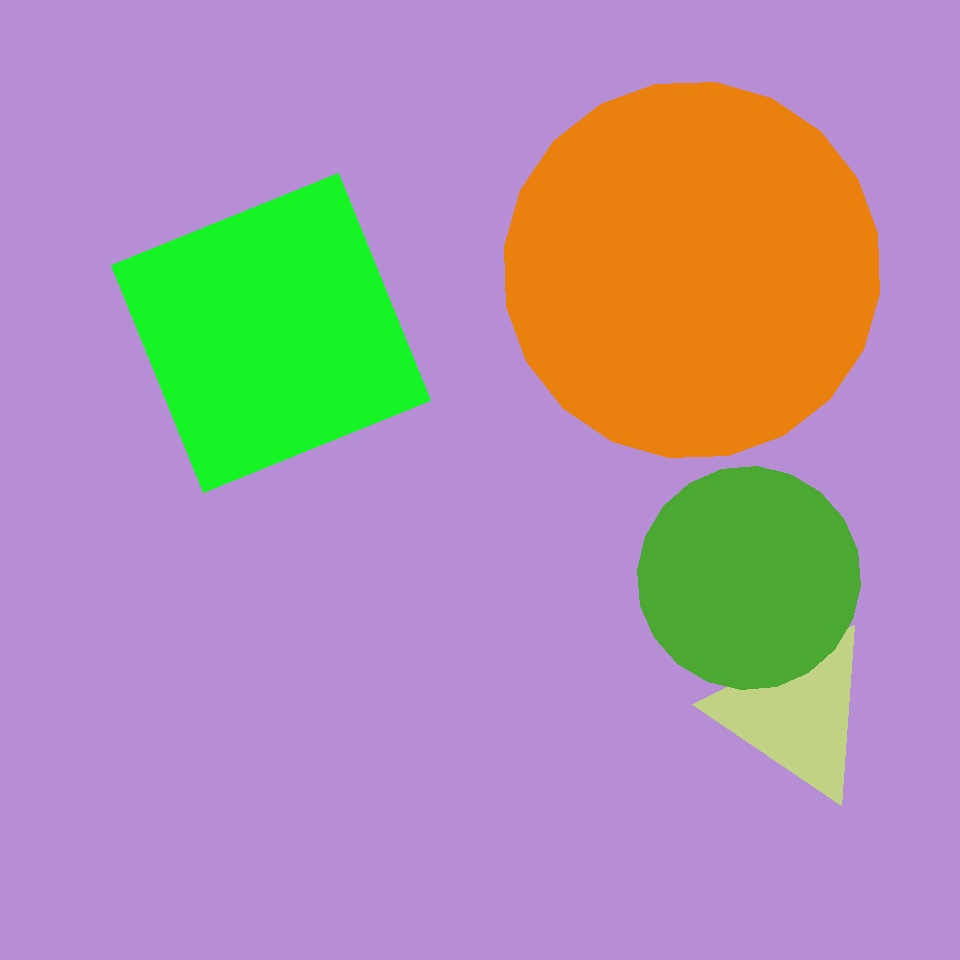circle: (114, 514, 320, 750), (715, 622, 877, 802), (173, 259, 263, 355)
square: (112, 174, 430, 492), (3, 661, 208, 867)
triangle: (504, 82, 880, 458), (638, 466, 860, 690), (546, 36, 721, 210)
